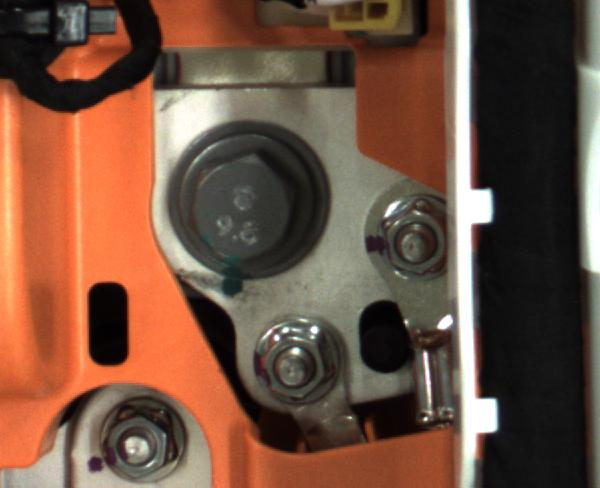nut_b: (161, 120, 329, 280)
screw_s: (241, 323, 338, 411), (98, 405, 193, 480), (373, 205, 456, 279)
